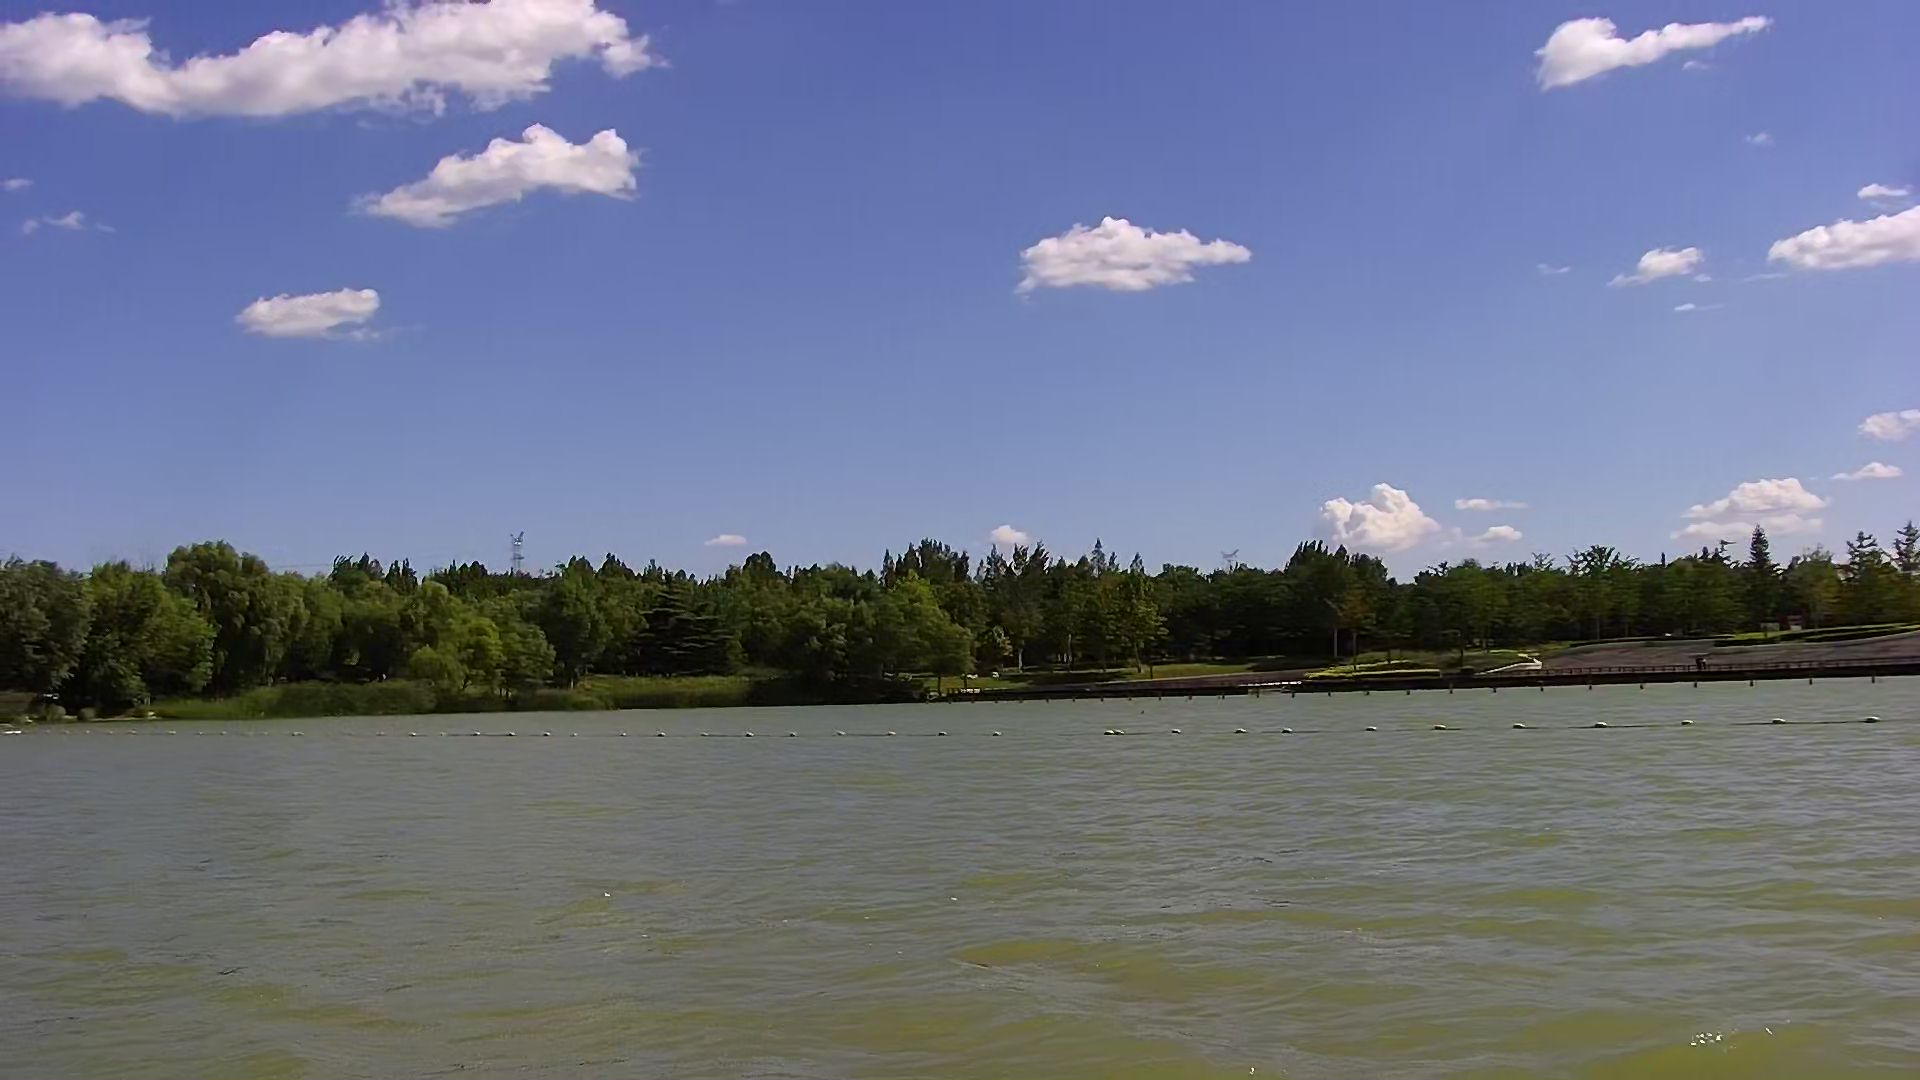ball: (1768, 704, 1792, 738), (1592, 713, 1618, 738), (1863, 708, 1884, 732), (1511, 720, 1530, 735)
harbor: (1501, 628, 1920, 691)
